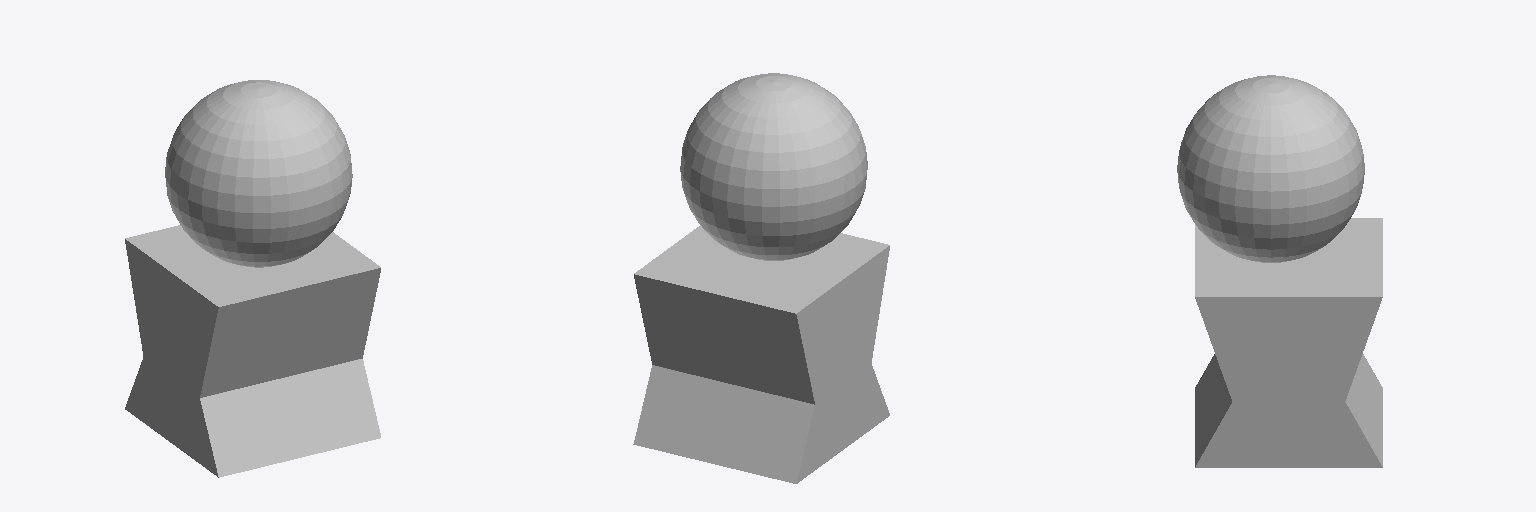
Rendered from npcobj.obj.
3 renders of one model, left to right at view 1: azimuth 30°, elevation 25°; view 2: azimuth 150°, elevation 25°; view 3: azimuth 270°, elevation 25°, orthographic.
Size of the model in its own units: 2.04 by 4.02 by 2.19.